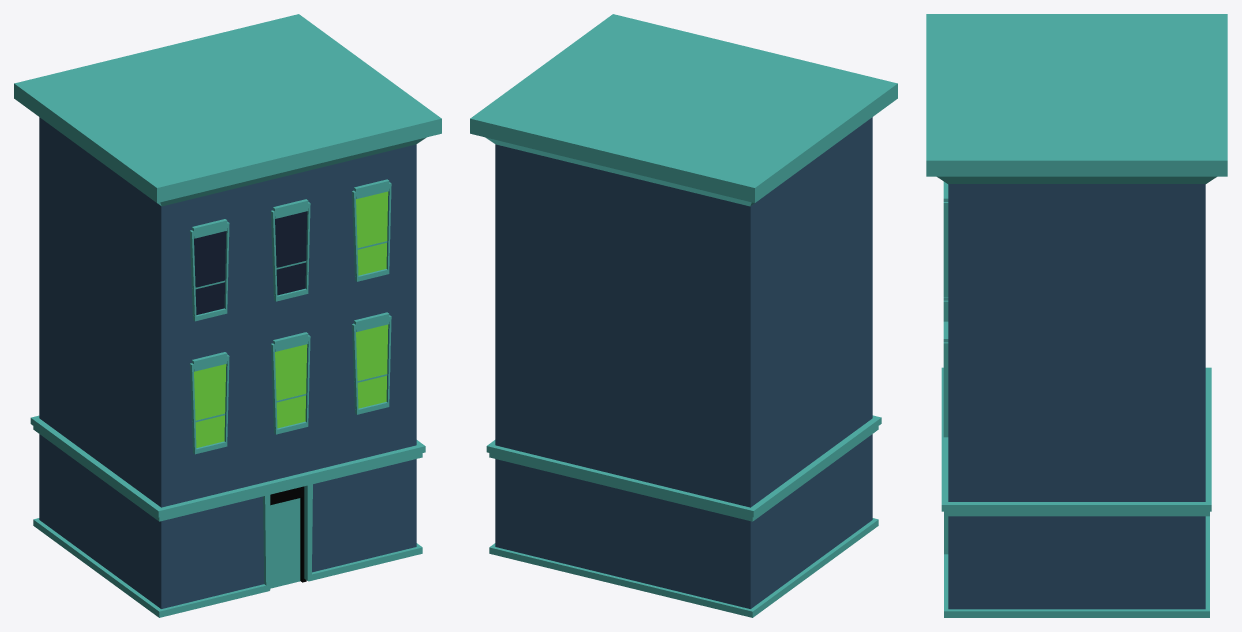
Rendered from building1.gltf.
The picture shows the model from 3 angles, left to right: view 1: azimuth 30°, elevation 25°; view 2: azimuth 150°, elevation 25°; view 3: azimuth 270°, elevation 25°; orthographic projection. The views are drawn at different scales.
Visible parts, largest first — view 1: Building1; view 2: Building1; view 3: Building1.
Boxes of the visible parts, <box> form: Building1: <box>14,14,441,617</box>; Building1: <box>470,14,897,617</box>; Building1: <box>926,14,1227,617</box>.
Bounding box in the file's own units: 0.5067 × 0.7513 × 0.4404.
